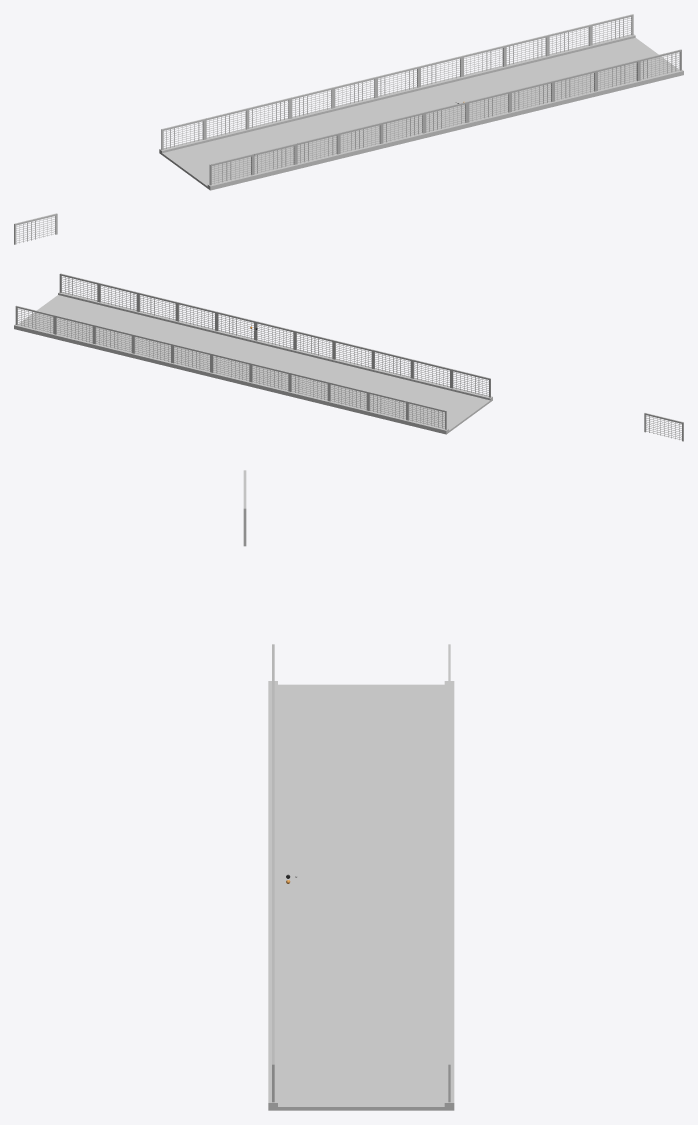
The model's file is Cancha bochas completo.fbx.
3 renders of one model, top to bottom at view 1: azimuth 30°, elevation 25°; view 2: azimuth 150°, elevation 25°; view 3: azimuth 270°, elevation 25°, orthographic. The views are drawn at different scales.
Visible parts, largest first — view 1: Cube.001, Cube.005, Cube.003, Cube.004, Cube.015, Cube.002; view 2: Cube.001, Cube.005, Cube.003, Cube.015, Cube.004, Cube.002; view 3: Cube.001, Cube.015, Cube.004, Cube.003, Cube.005.
Part boxes in pixels (x1=…): Cube.001: x1=162, y1=37, x2=678, y2=188; Cube.005: x1=209, y1=49, x2=681, y2=185; Cube.003: x1=161, y1=14, x2=633, y2=149; Cube.004: x1=207, y1=70, x2=683, y2=190; Cube.015: x1=159, y1=34, x2=635, y2=154; Cube.002: x1=14, y1=213, x2=57, y2=244; Cube.001: x1=19, y1=295, x2=490, y2=432; Cube.005: x1=59, y1=273, x2=490, y2=397; Cube.003: x1=15, y1=305, x2=446, y2=429; Cube.015: x1=14, y1=324, x2=448, y2=434; Cube.004: x1=58, y1=291, x2=492, y2=401; Cube.002: x1=644, y1=413, x2=683, y2=441; Cube.001: x1=278, y1=684, x2=444, y2=1110; Cube.015: x1=444, y1=681, x2=454, y2=1110; Cube.004: x1=268, y1=681, x2=277, y2=1110; Cube.003: x1=448, y1=644, x2=450, y2=1102; Cube.005: x1=272, y1=644, x2=274, y2=1102.
Bounding box in the file's own units: 3426 × 120 × 506.
